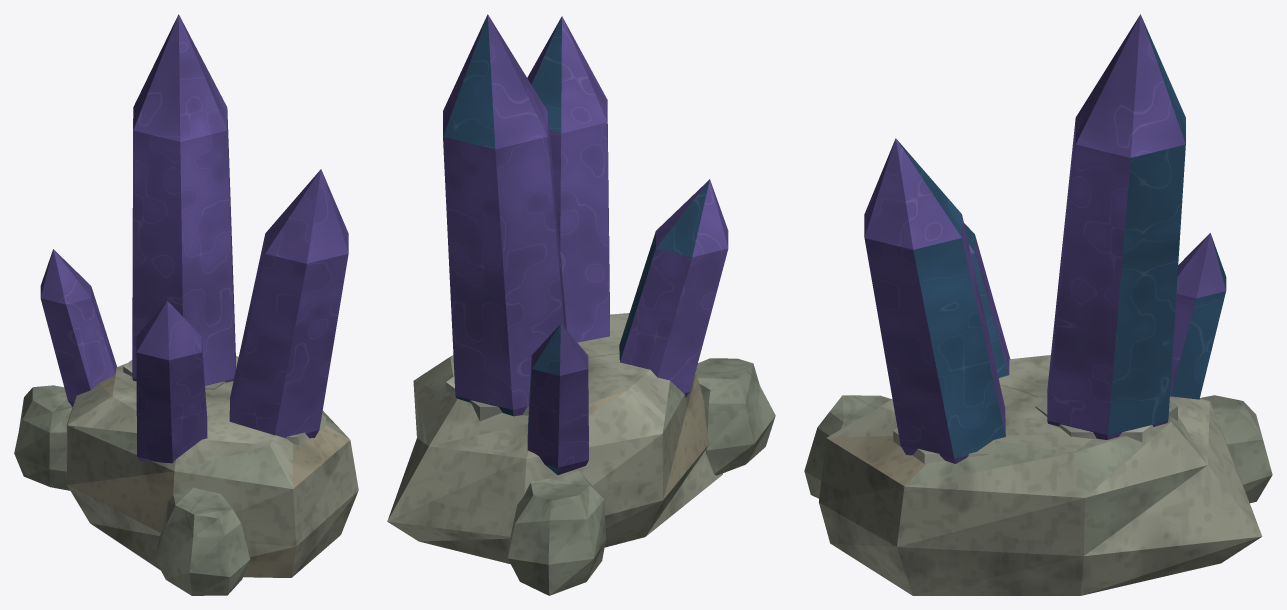
The model's file is a17_mineral_cluster_small.fbx.
The picture shows the model from 3 angles, left to right: view 1: azimuth 30°, elevation 25°; view 2: azimuth 150°, elevation 25°; view 3: azimuth 270°, elevation 25°; orthographic projection. The views are drawn at different scales.
Parts seen in each view (by area): view 1: a17_mineral_cluster_small; view 2: a17_mineral_cluster_small; view 3: a17_mineral_cluster_small.
Part boxes in pixels (box(x1,y1,x2,y2)): a17_mineral_cluster_small: box(14, 14, 358, 595); a17_mineral_cluster_small: box(387, 14, 775, 595); a17_mineral_cluster_small: box(804, 14, 1272, 595).
Bounding box in the file's own units: 6563 × 10096 × 12960.
